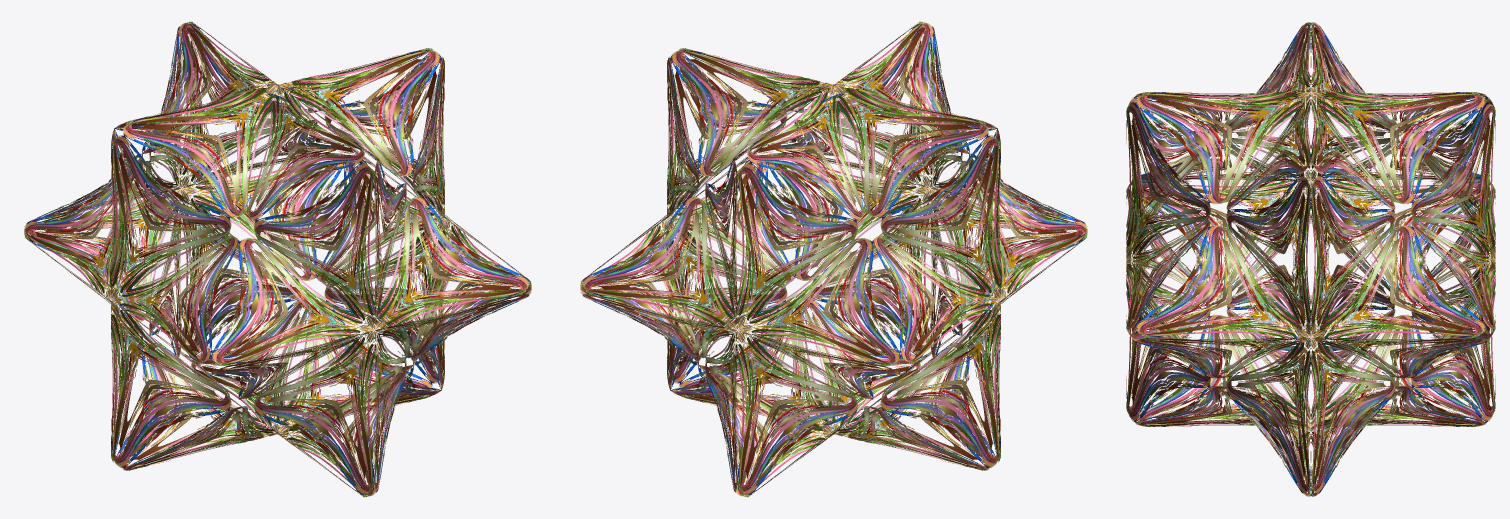
The model's file is Escher9.obj.
The picture shows the model from 3 angles, left to right: view 1: azimuth 30°, elevation 25°; view 2: azimuth 150°, elevation 25°; view 3: azimuth 270°, elevation 25°; orthographic projection. The views are drawn at different scales.
Bounding box in the file's own units: 2 × 2 × 2.
1 material, 1 textured.
